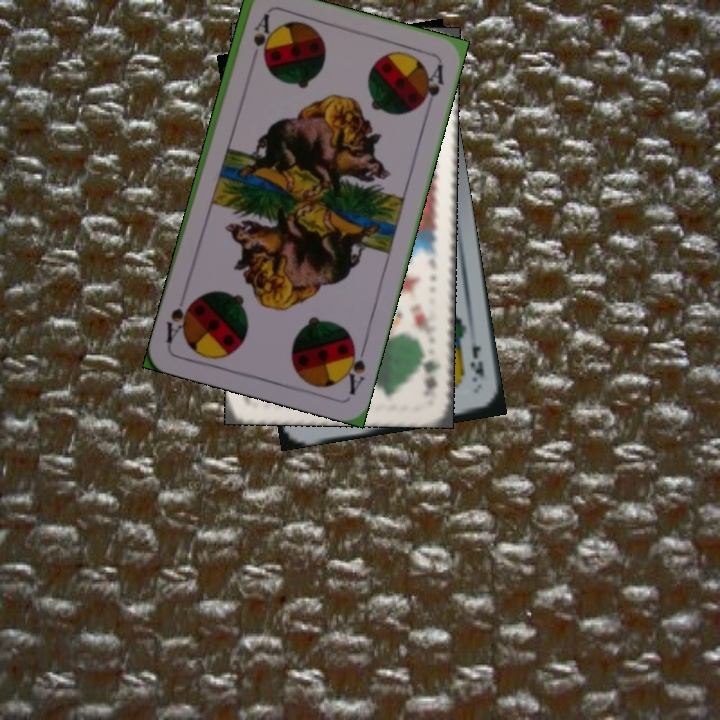EK: (466, 340, 487, 385)
GK: (418, 342, 440, 401)
SA: (339, 337, 370, 398), (246, 11, 272, 69)
